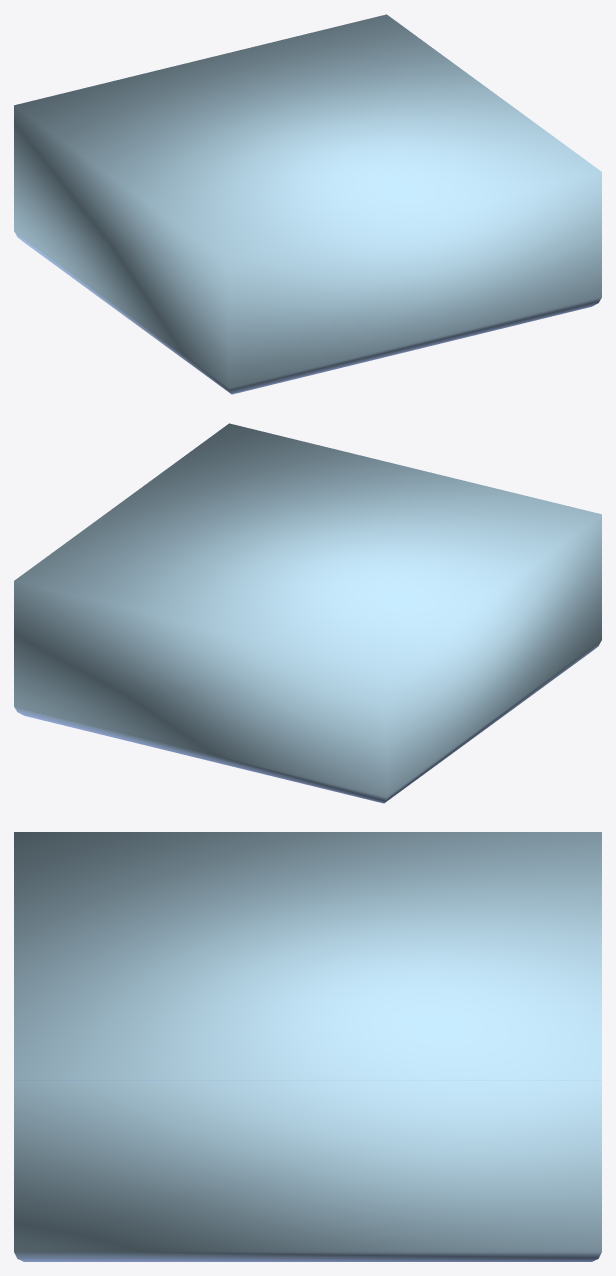
The model's file is background.FBX.
The picture shows the model from 3 angles, top to bottom: view 1: azimuth 30°, elevation 25°; view 2: azimuth 150°, elevation 25°; view 3: azimuth 270°, elevation 25°; orthographic projection. The views are drawn at different scales.
Visible parts, largest first — view 1: background; view 2: background; view 3: background.
Boxes of the visible parts, box(x1,y1,x2,y2) form: background: box(14, 14, 601, 394); background: box(14, 423, 601, 803); background: box(14, 832, 601, 1261).
Bounding box in the file's own units: 500 × 177 × 500.
1 material, 1 textured.
